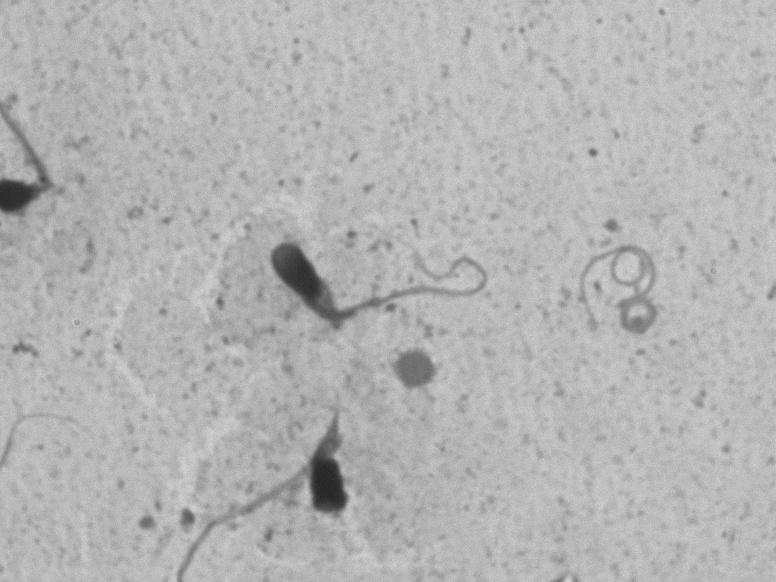Abnormal: (252, 183, 541, 343), (139, 391, 399, 564)
